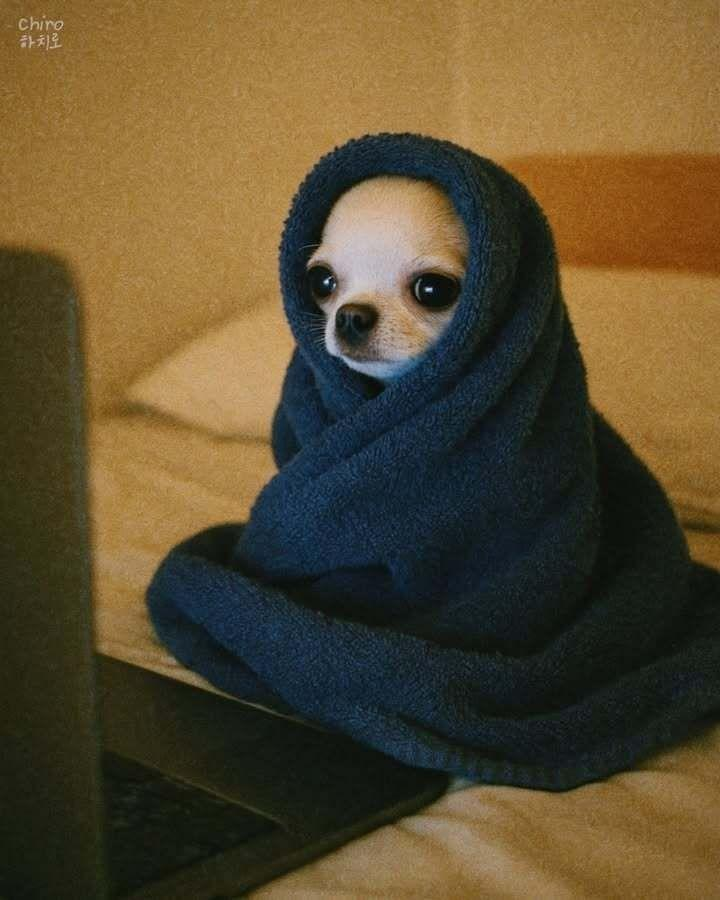adult_dog: (276, 140, 567, 478)
